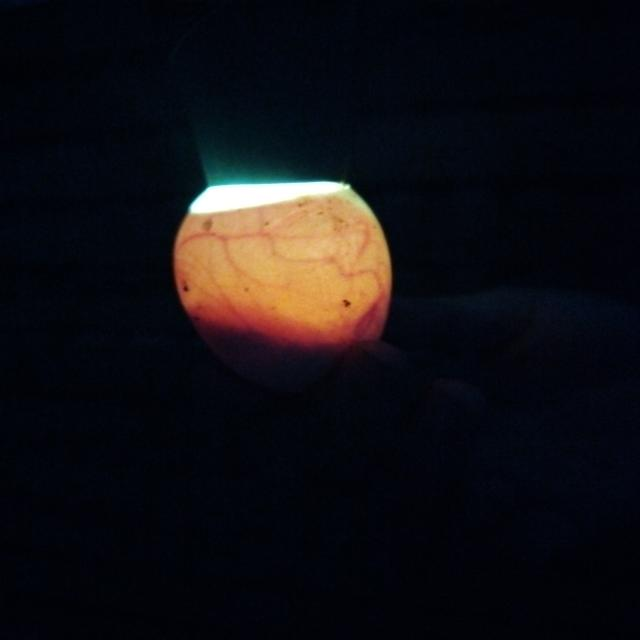Embriao: (188, 300, 388, 399)
